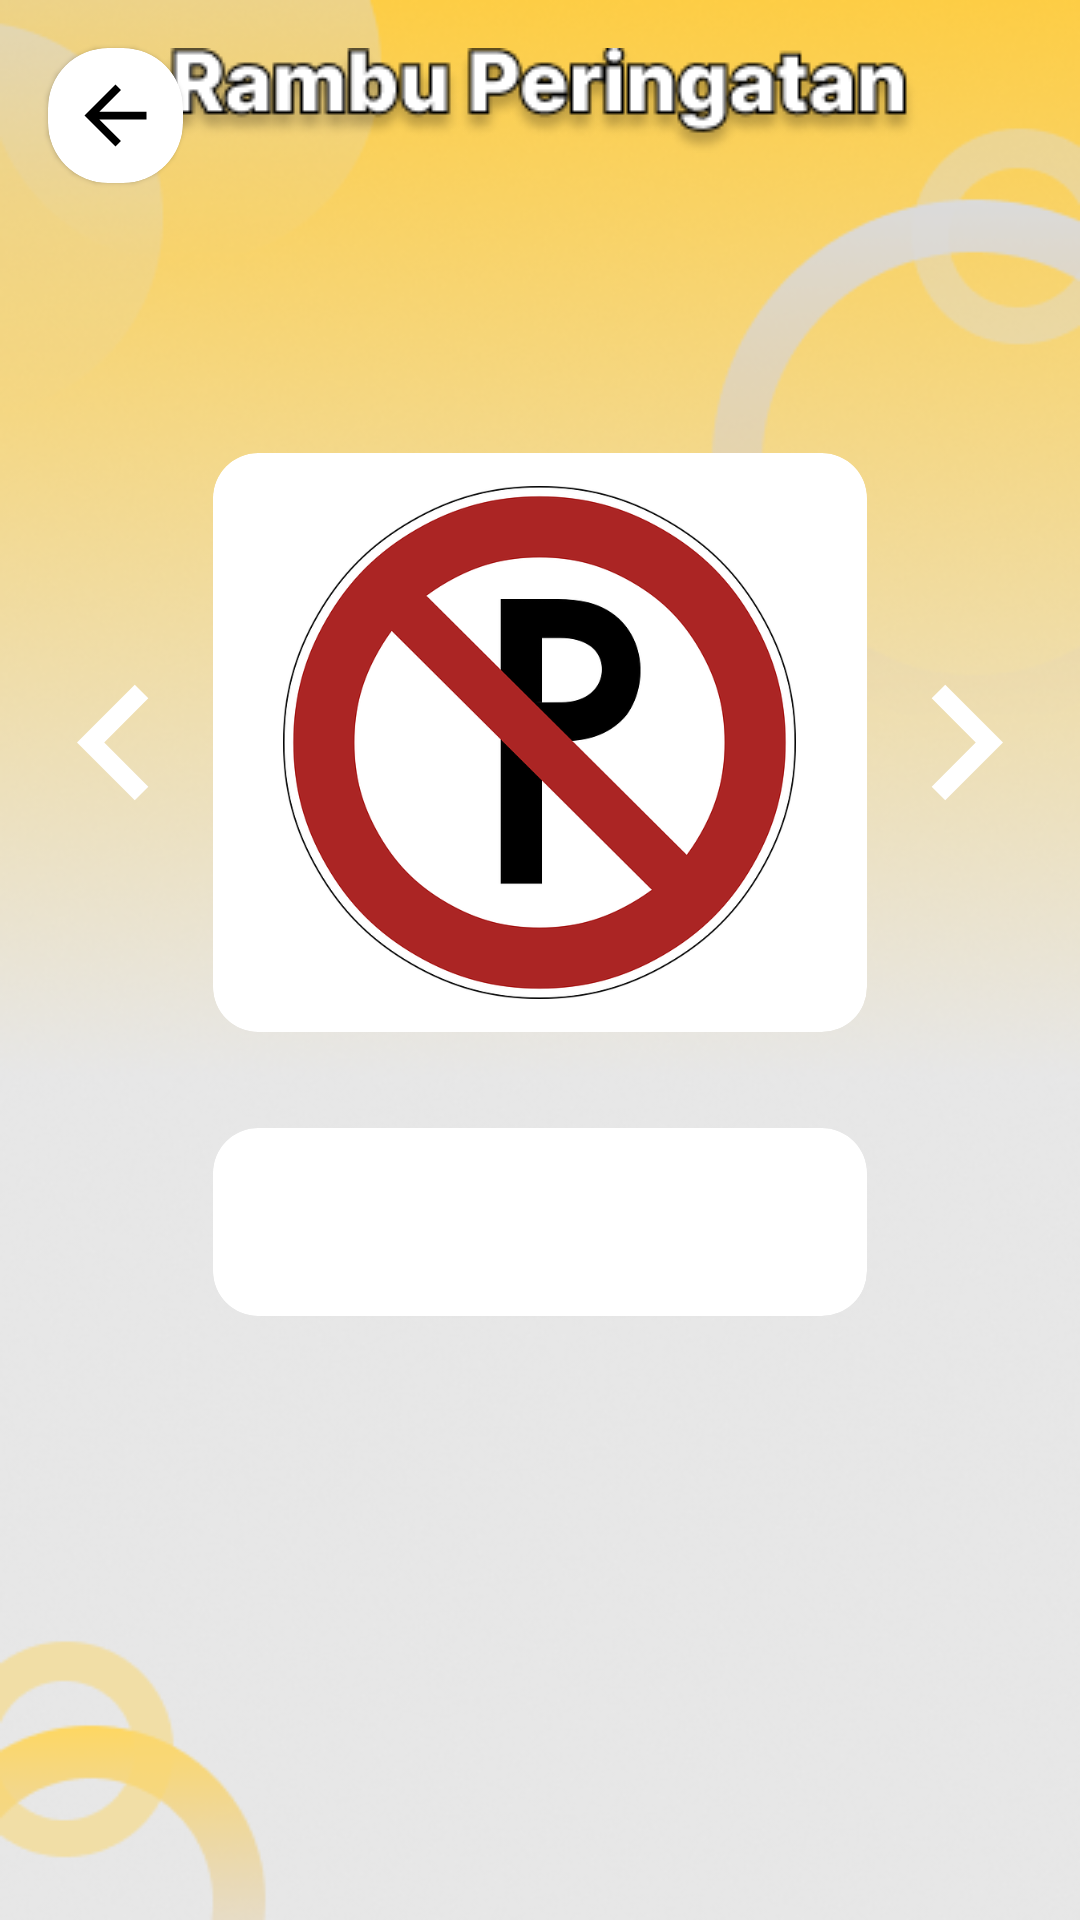

Screen size 1080*1920. Icon name, then its center in pixels as point (x, y):
arrow back: point (115, 115)
keyboard arrow left: point (115, 742)
keyboard arrow right: point (964, 742)
